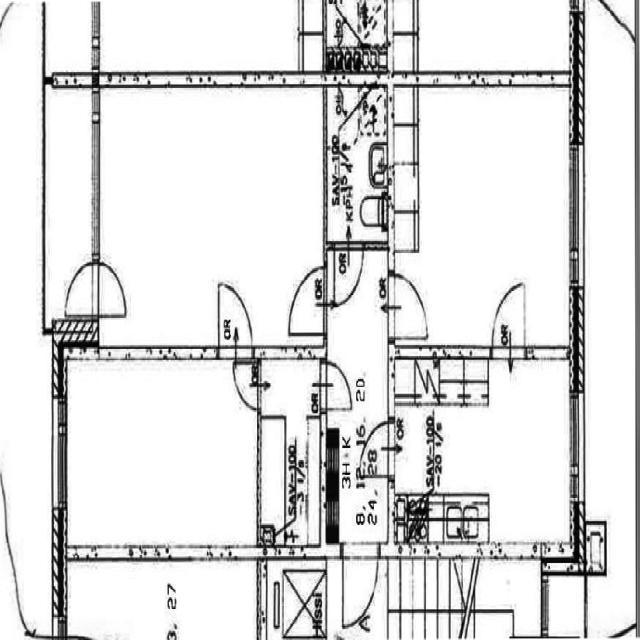door: (484, 272, 530, 370), (337, 538, 381, 635), (386, 268, 434, 345), (76, 256, 131, 322), (284, 258, 327, 341), (214, 280, 255, 362), (328, 239, 366, 308), (323, 360, 353, 418), (230, 358, 259, 415)
window: (563, 120, 593, 302), (85, 101, 109, 265), (566, 373, 590, 512), (47, 391, 73, 514)
zone: (94, 81, 327, 348), (393, 88, 581, 353), (385, 368, 582, 554), (328, 14, 392, 252), (258, 352, 324, 560)
